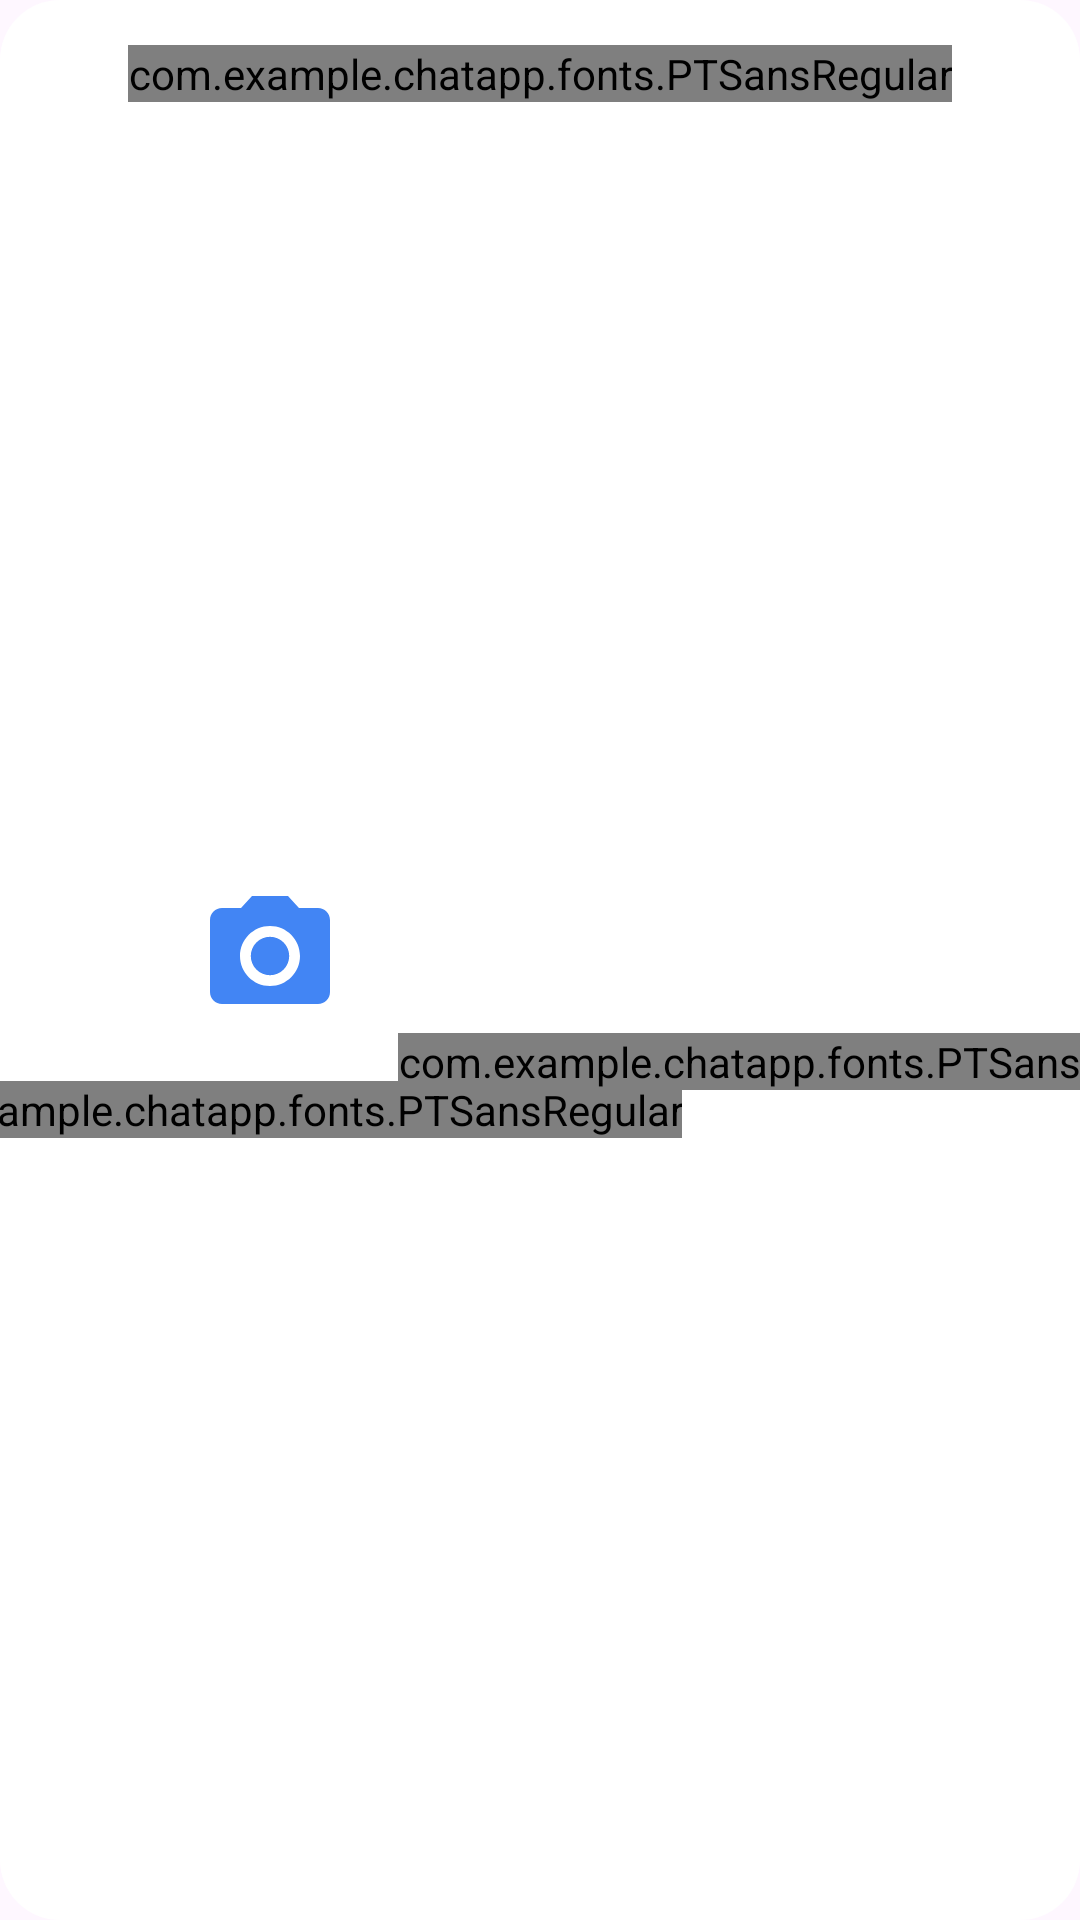

Named icons in this screenshot (1080 x 1920) and their bounding boxes, box(x1, y1, x2, y2):
camera: box(210, 896, 330, 1004)
